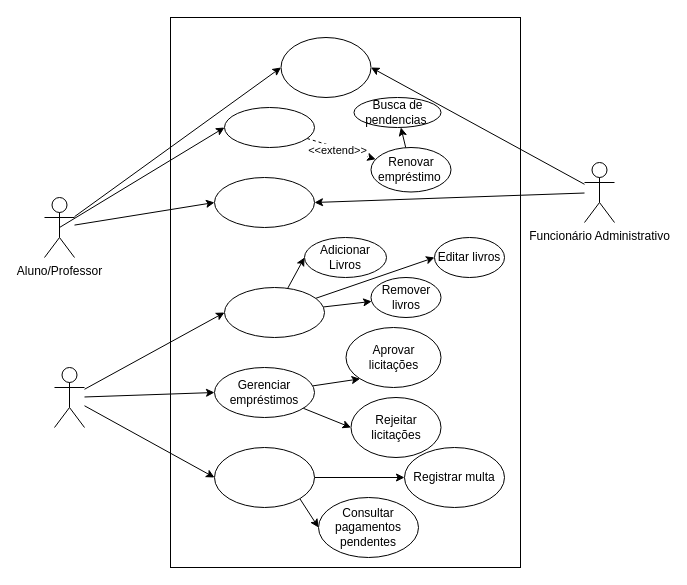
This 687x585 diagram has some shape labels left out. The box of each missing label's shape, as (x1, y1, x2, y2) in pixels:
Bibliotecário: (54, 366, 84, 428)
Consultar catálogo de livros: (280, 36, 371, 98)
Consultar histórico de empréstimos: (214, 176, 314, 228)
Gerenciar catálogo de livros: (224, 286, 324, 338)
Gerenciar multas: (214, 446, 314, 508)
Solicitar empréstimo: (224, 106, 314, 148)
